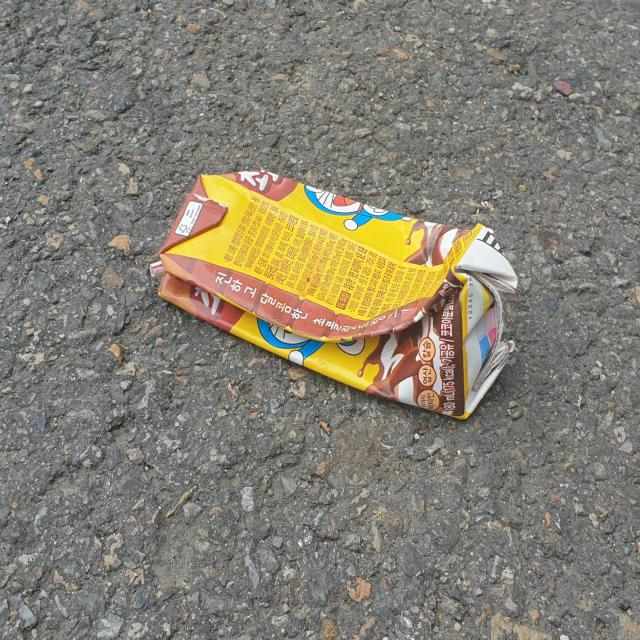paperpack: (158, 168, 518, 419)
